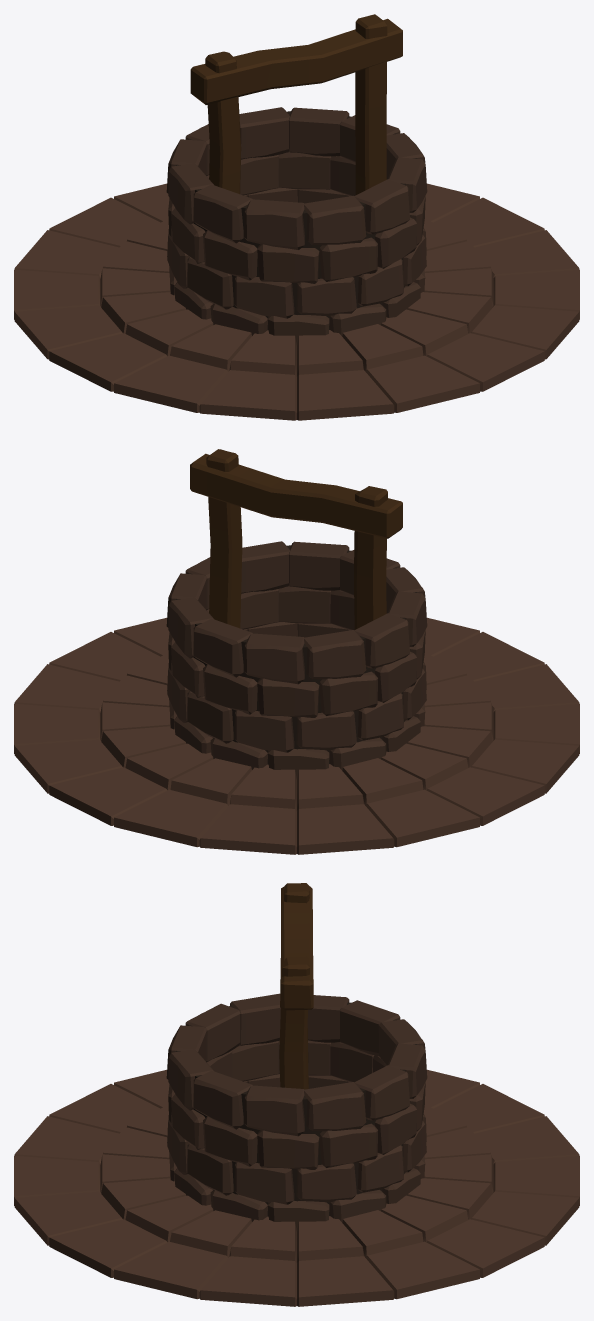
Rendered from Well.FBX.
3 renders of one model, top to bottom at view 1: azimuth 30°, elevation 25°; view 2: azimuth 150°, elevation 25°; view 3: azimuth 270°, elevation 25°, orthographic.
Visible parts, largest first — view 1: BottomBrick, Bricks, WoodenPart, BackMortar; view 2: BottomBrick, Bricks, WoodenPart, BackMortar; view 3: BottomBrick, Bricks, WoodenPart, BackMortar.
Boxes of the visible parts, x1=… form: BottomBrick: x1=14, y1=183, x2=579, y2=420; Bricks: x1=166, y1=107, x2=427, y2=344; WoodenPart: x1=190, y1=14, x2=402, y2=194; BackMortar: x1=176, y1=111, x2=417, y2=330; BottomBrick: x1=14, y1=617, x2=579, y2=854; Bricks: x1=166, y1=541, x2=427, y2=778; WoodenPart: x1=190, y1=449, x2=402, y2=629; BackMortar: x1=176, y1=545, x2=416, y2=764; BottomBrick: x1=14, y1=1069, x2=579, y2=1306; Bricks: x1=166, y1=993, x2=427, y2=1230; WoodenPart: x1=279, y1=883, x2=313, y2=1089; BackMortar: x1=176, y1=1002, x2=416, y2=1216.
Size of the model in its own units: 29.97 by 15.09 by 29.54.
